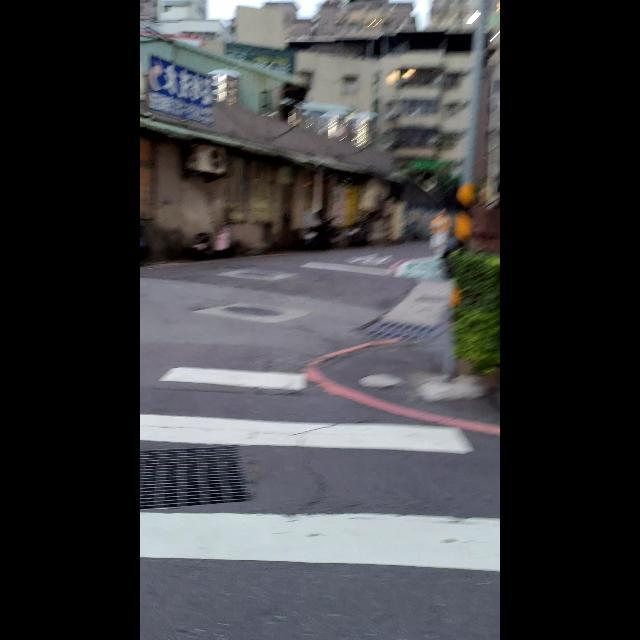sidewalk: (141, 366, 497, 574)
